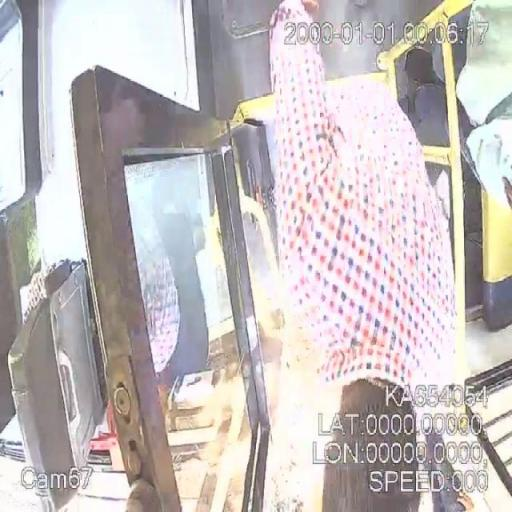persona: (264, 1, 469, 511)
